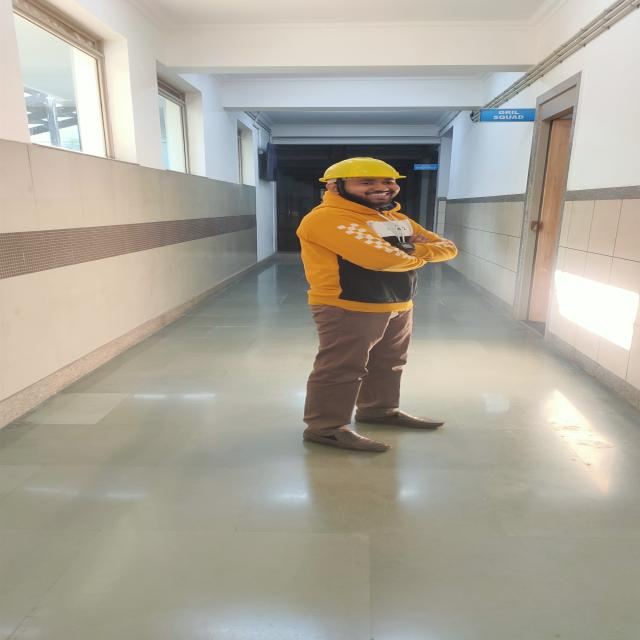no jacket: (296, 157, 460, 454)
